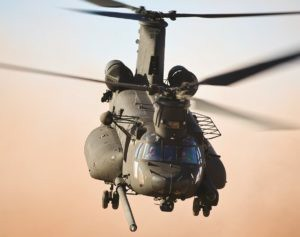chinook: (54, 8, 264, 237)
